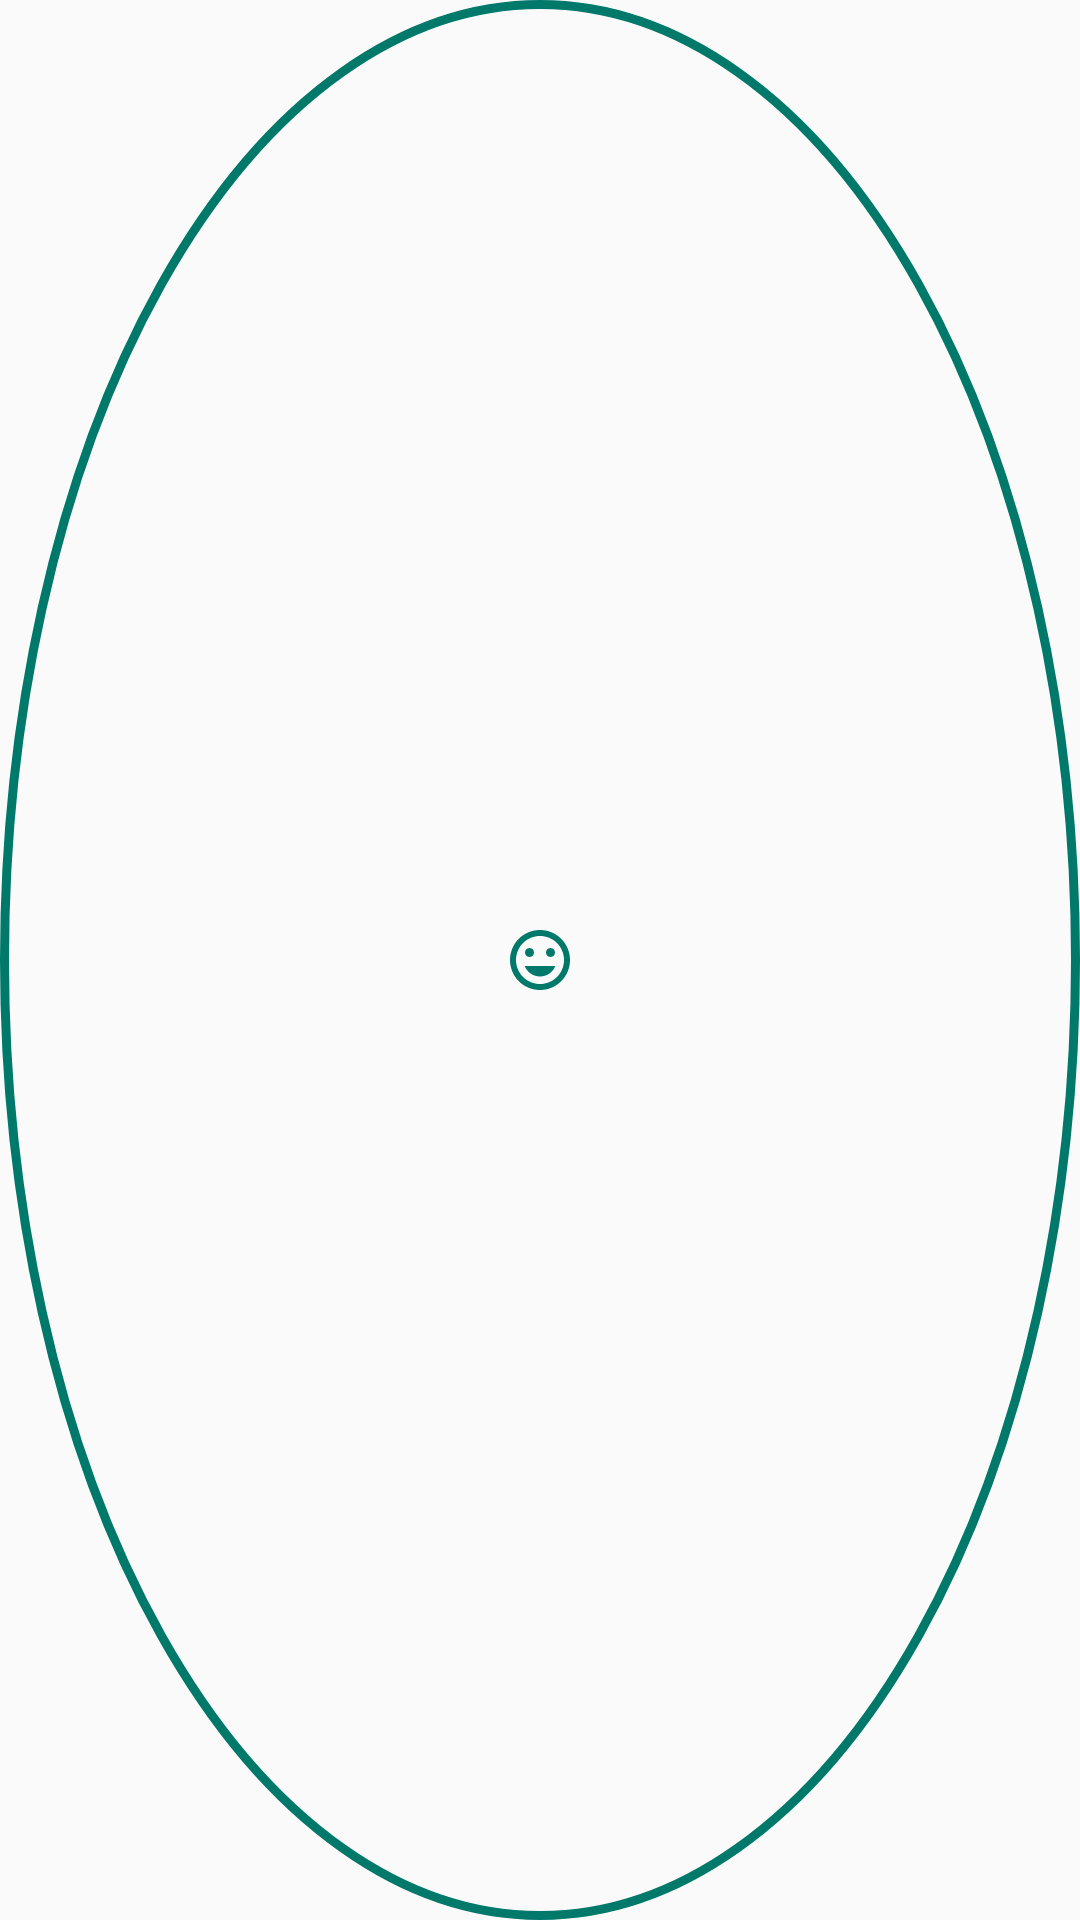

Where icons sit on this 1080*1920 app screen, as (x1, y1, x2, y2):
rating: (510, 930, 570, 990)
